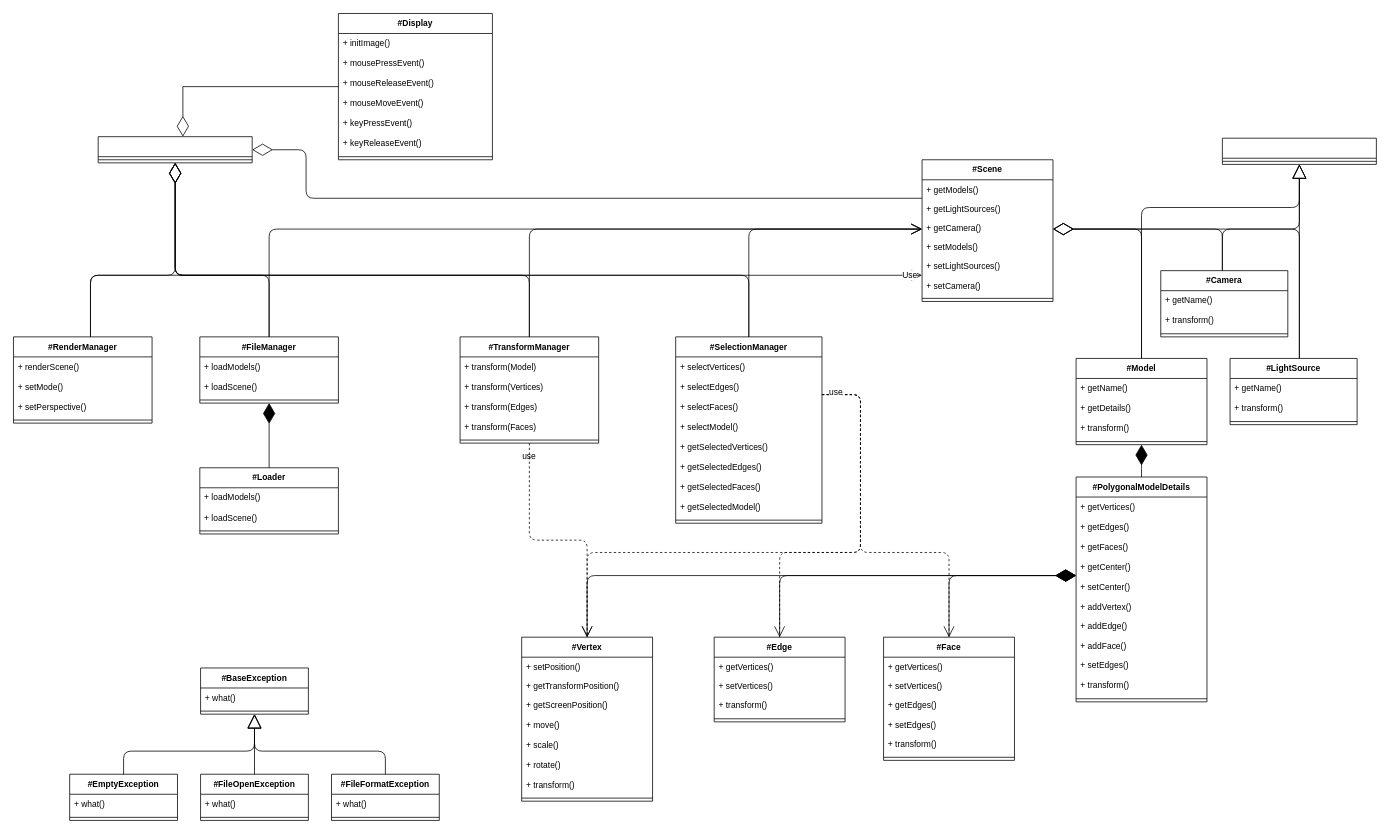
Image size: 1390x834. Some labels were removed from this diagram. The shapes that lost their labels are listed below. From the top down, each one's centre as x and y in pixels, then its label:
point 174,149: #MainWindow
point 1299,150: #Object
